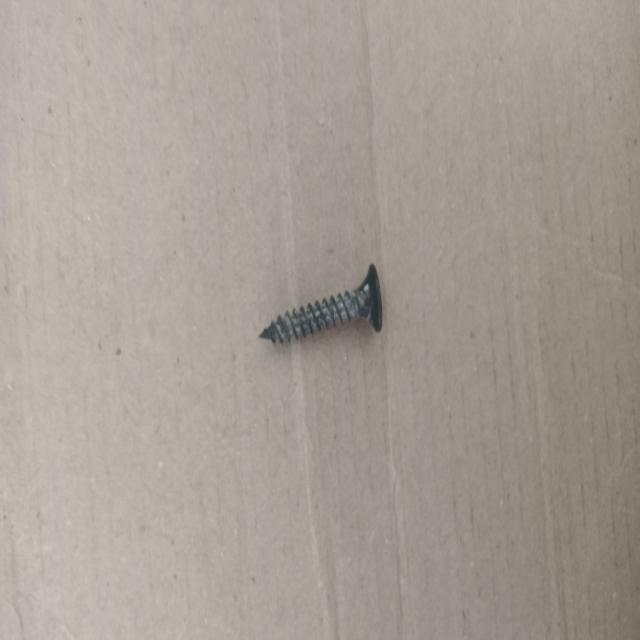screw: (258, 264, 383, 342)
